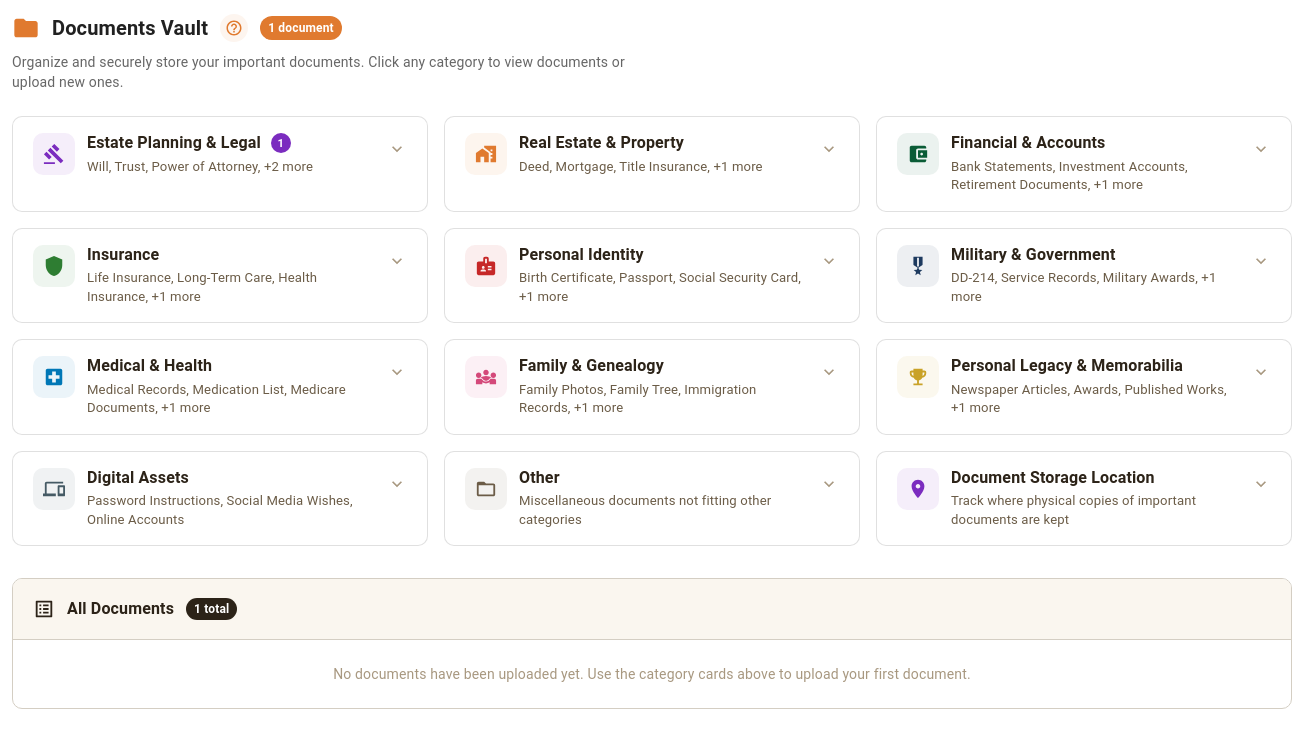
Test: DocumentsVaultSection › Document List › uploaded documents appear in correct category
This screenshot has width=1304, height=732.
Click the heading "Estate Planning & Legal". click: (174, 143)
box: x1=87 y1=133 x2=261 y2=154
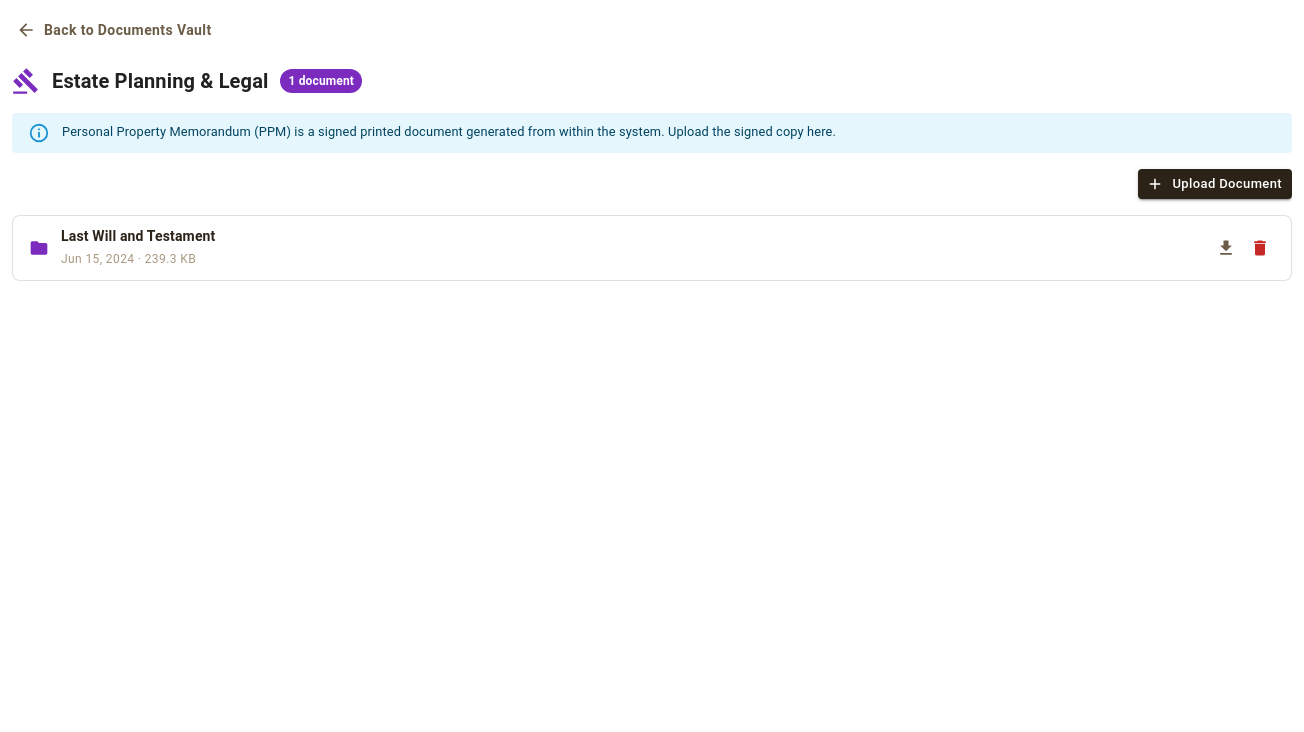
Expected: the text "Last Will and Testament" is shown, x1=61 y1=226 x2=216 y2=246
